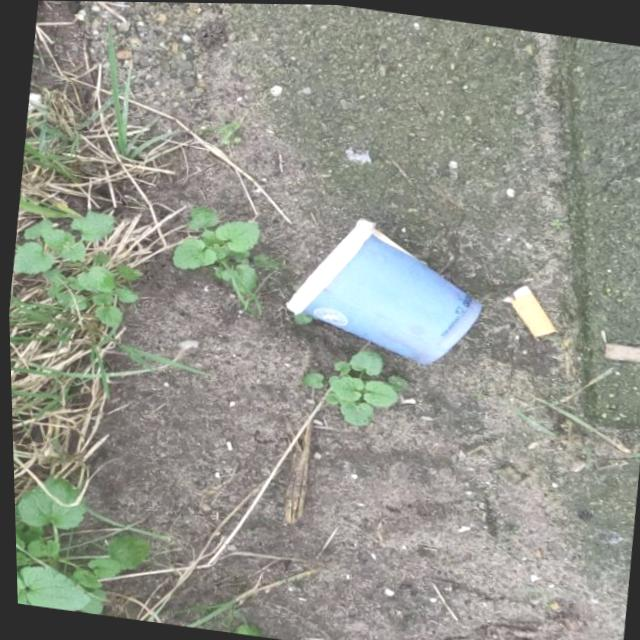Cup: (271, 203, 494, 374)
